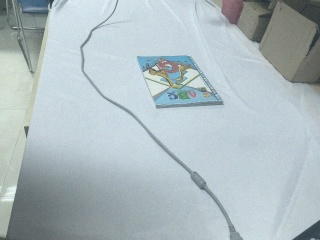book: (135, 53, 226, 109)
box: (259, 1, 320, 85), (236, 1, 280, 42)
